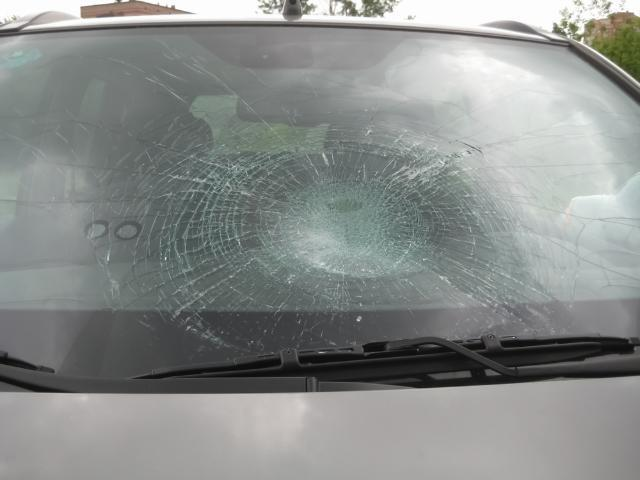glass shatter: (0, 26, 640, 378)
